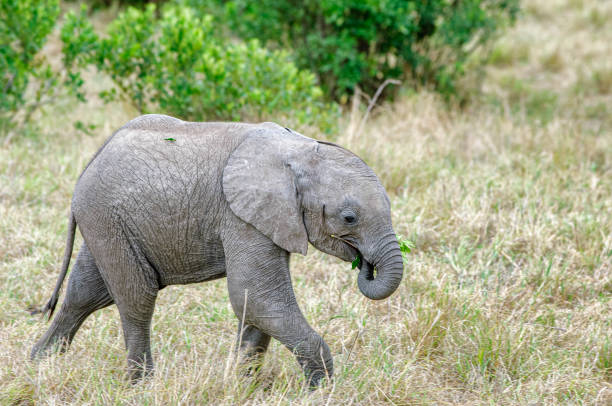africanelephant: (261, 138, 395, 276)
